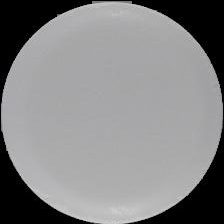42291-304: (0, 0, 224, 224)
